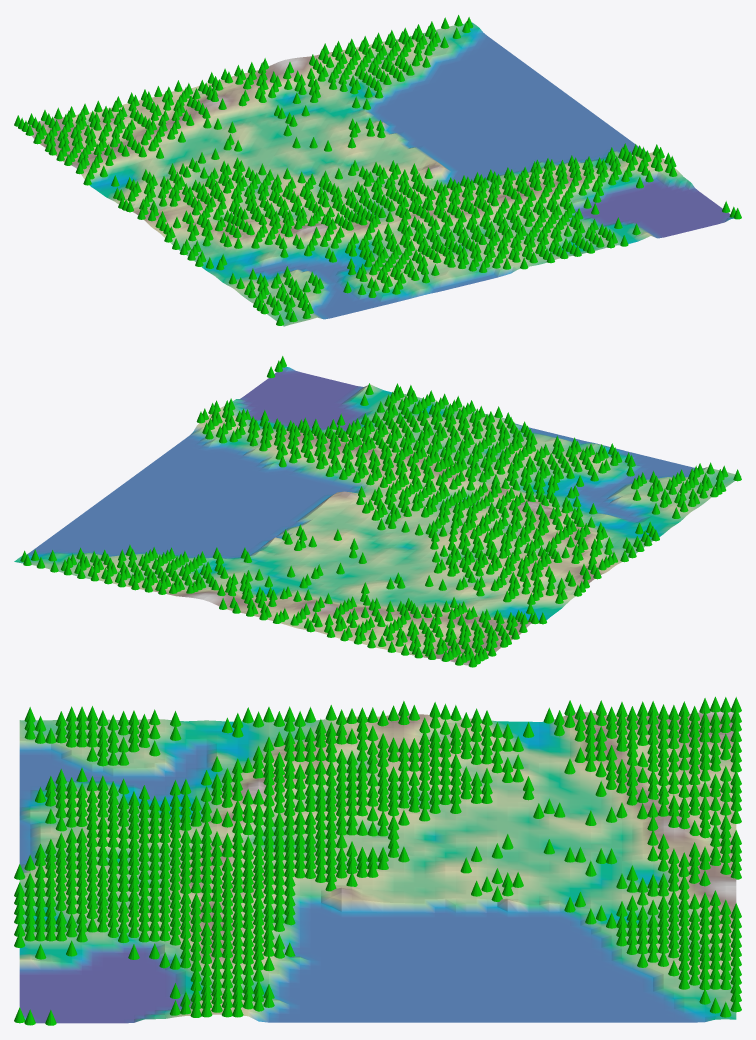
Rendered from 003477_with_tree.glb.
3 views of the same model, one above another, from view 1: azimuth 30°, elevation 25°; view 2: azimuth 150°, elevation 25°; view 3: azimuth 270°, elevation 25° (orthographic). The views are drawn at different scales.
Parts seen in each view (by area): view 1: terrain, trees; view 2: terrain, trees; view 3: terrain, trees.
Part boxes in pixels (box(x1,y1,x2,y2)): terrain: box(28, 22, 733, 326); trees: box(14, 15, 741, 325); terrain: box(14, 367, 741, 665); trees: box(20, 356, 741, 667); terrain: box(19, 711, 736, 1023); trees: box(14, 696, 741, 1025).
Bounding box in the file's own units: 0.0186 × 0.000825 × 0.0189.
